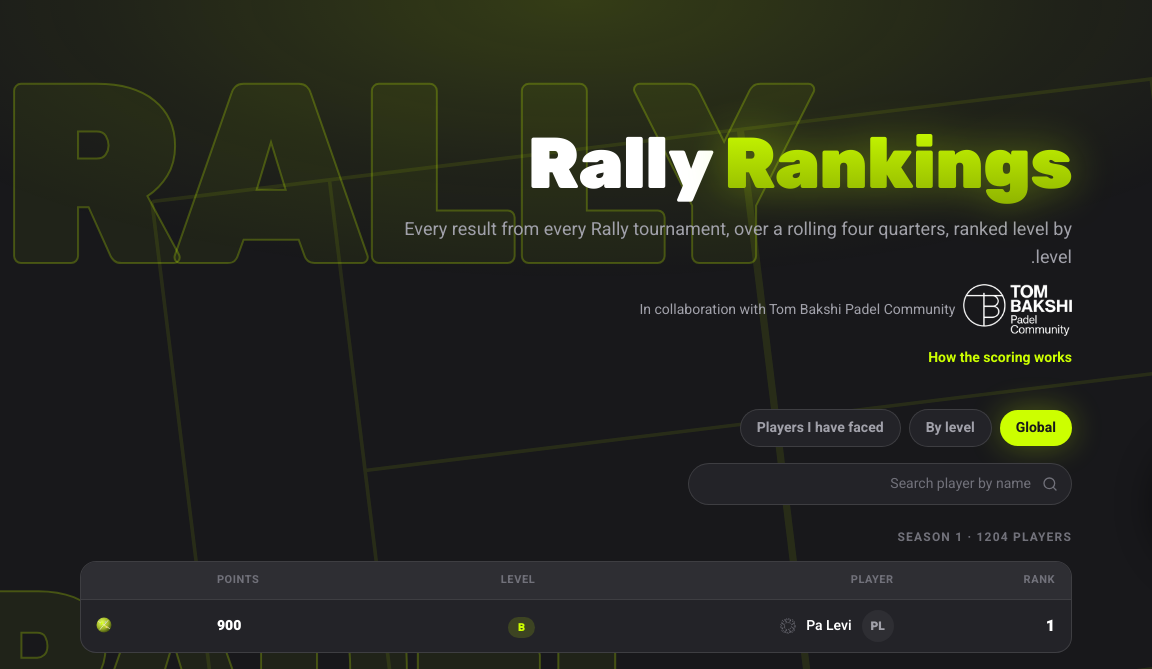
RankingPage name search › says "no players match", never "nobody is ranked", for a missed search
The image size is (1152, 669).
Expected: the table is shown, [81,562,1071,652]
Type "zzz" into the field with test id "league-search". click: (880, 484)
box: [688,463,1072,505]
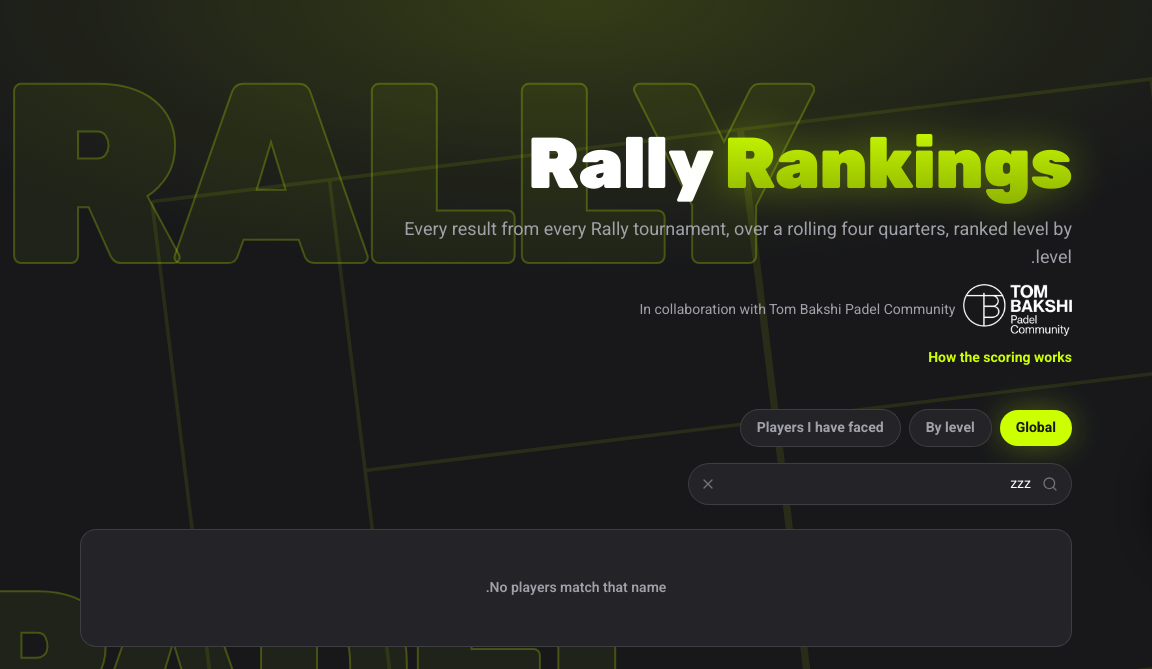
Expected: the text "No players match that name." is shown, [80,529,1072,647]
Expected: the table is gone
